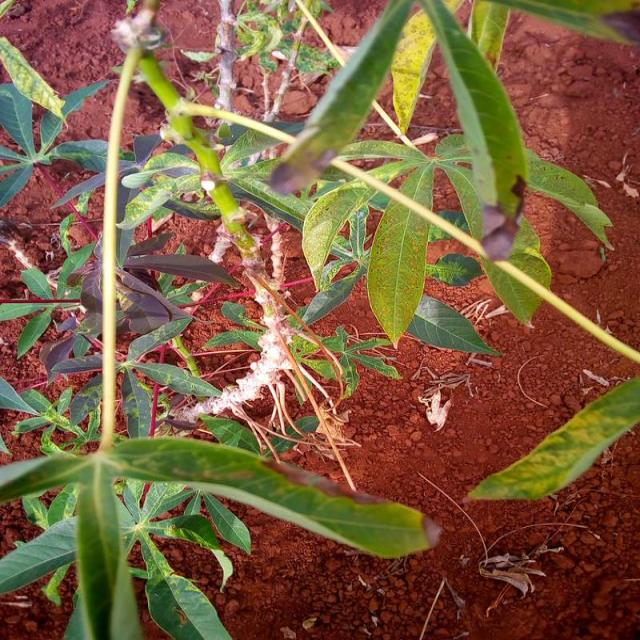cassava leaf: (107, 434, 442, 559), (423, 0, 529, 222), (464, 374, 639, 504), (366, 161, 434, 349)
